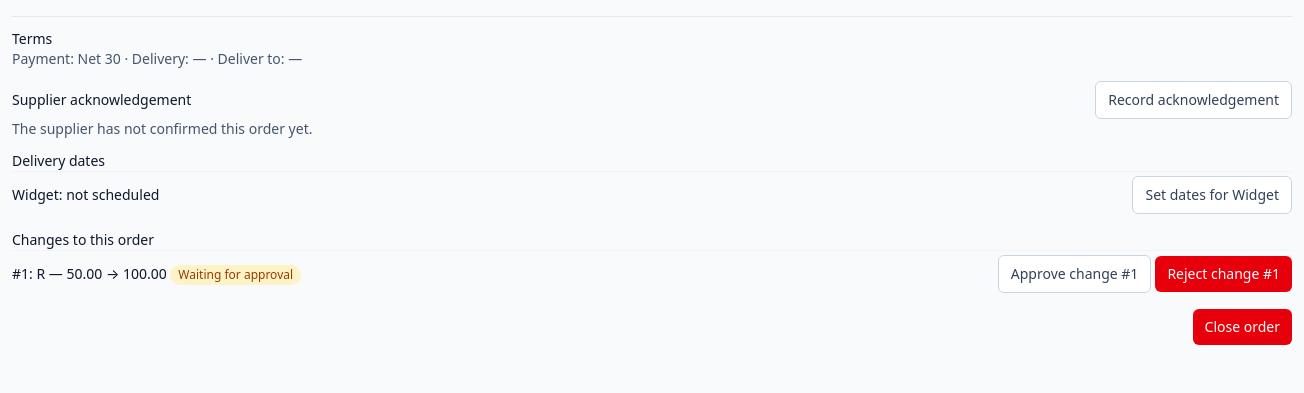
Test case: PoExtras › shows the server's refusal to approve your own amendment
The image size is (1304, 393).
What coordinates should you click on to do the following:
click the button "Approve change #1"
I would click on:
 (1075, 274)
Its box is left=998, top=255, right=1151, bottom=293.
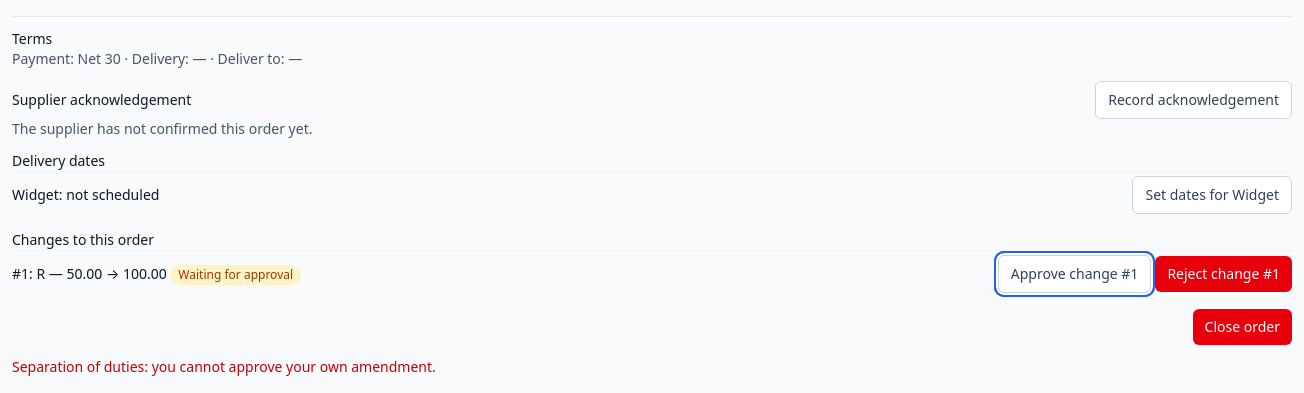
Expected: the message shows "cannot approve your own amendment", left=12, top=357, right=436, bottom=376
